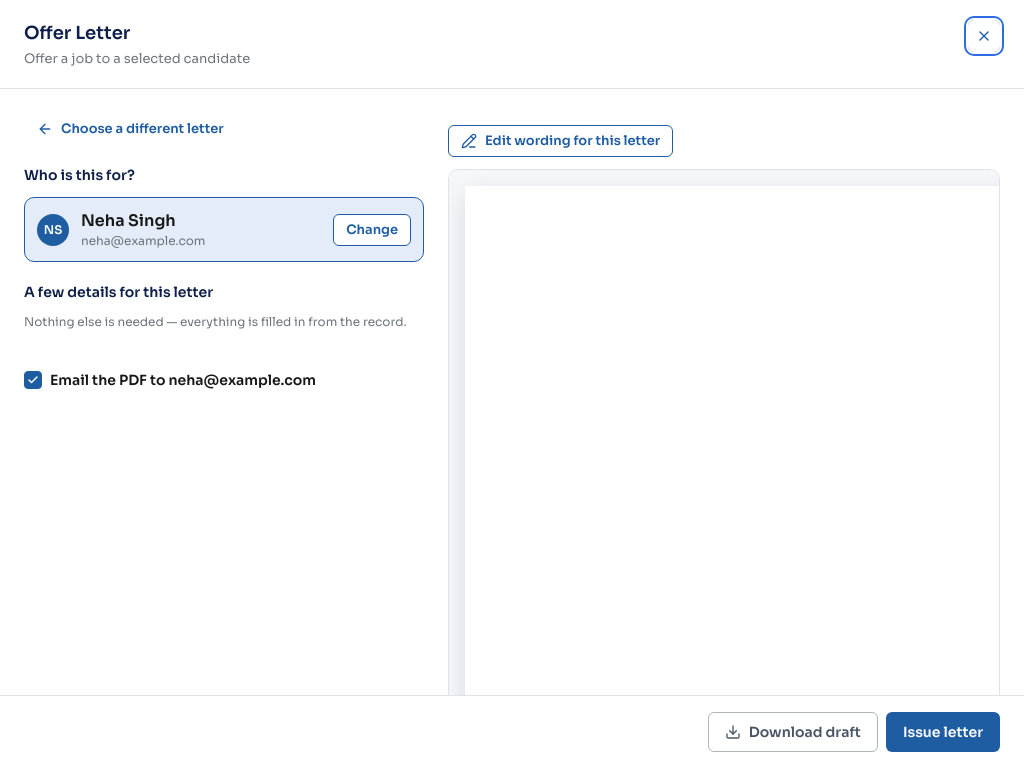
Test: choosing a letter › resolves a requested template key once the templates load, and can still change letter
Expected: the heading "Offer Letter" is shown, x1=24 y1=22 x2=130 y2=44
Expected: the element with test id "issue-recipient-card" shows "Neha Singh", x1=81 y1=210 x2=176 y2=231
Click the button "Choose a different letter" at [130, 129], box x1=24 y1=113 x2=237 y2=145
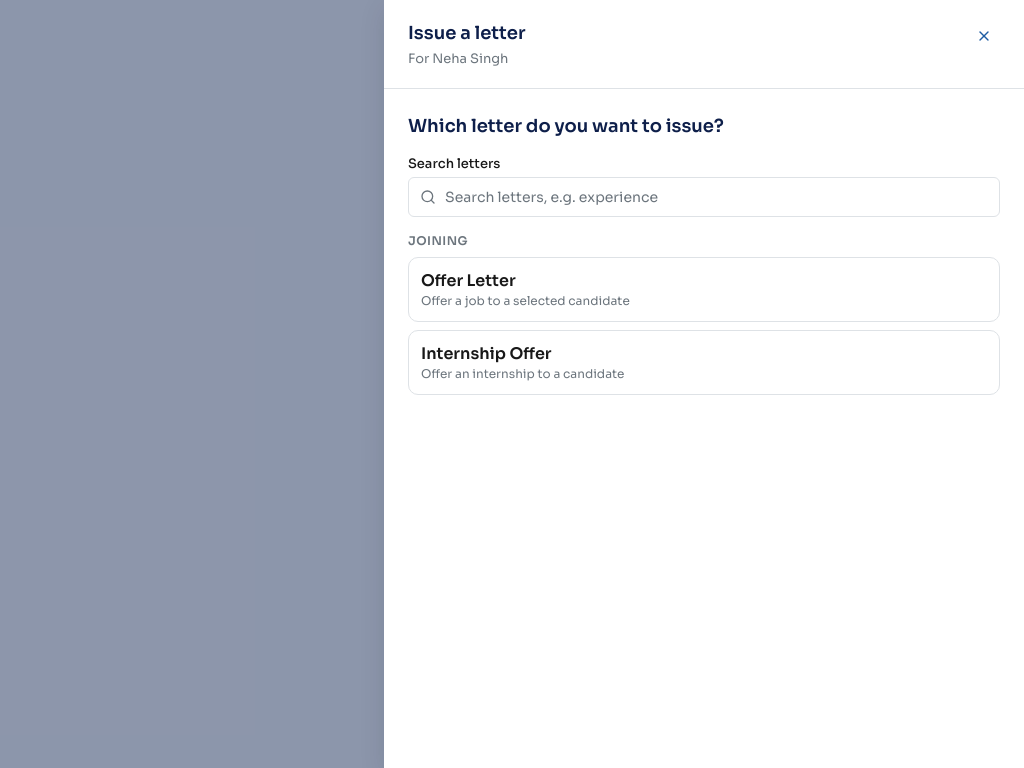
Expected: the button "Internship Offer Offer an internship to a candidate" is shown, x1=408 y1=330 x2=1000 y2=395
